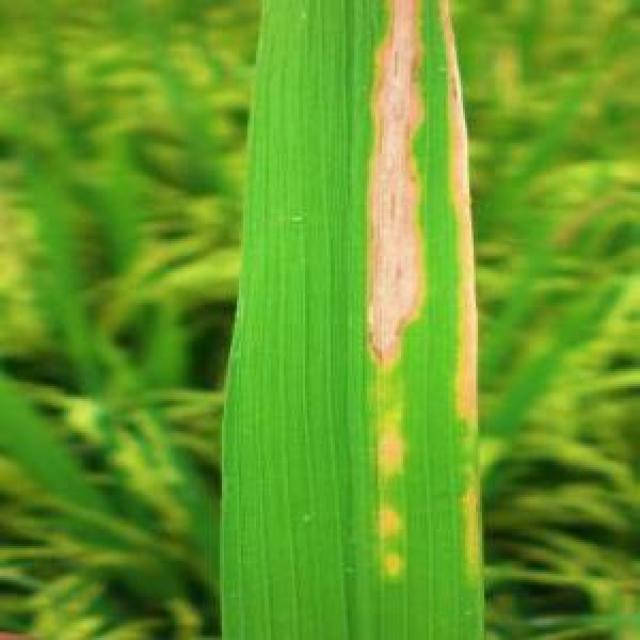Bacterial_Blight: (367, 0, 429, 378), (431, 0, 484, 428), (452, 472, 486, 582), (376, 409, 408, 486), (380, 501, 401, 538), (385, 555, 403, 578)
